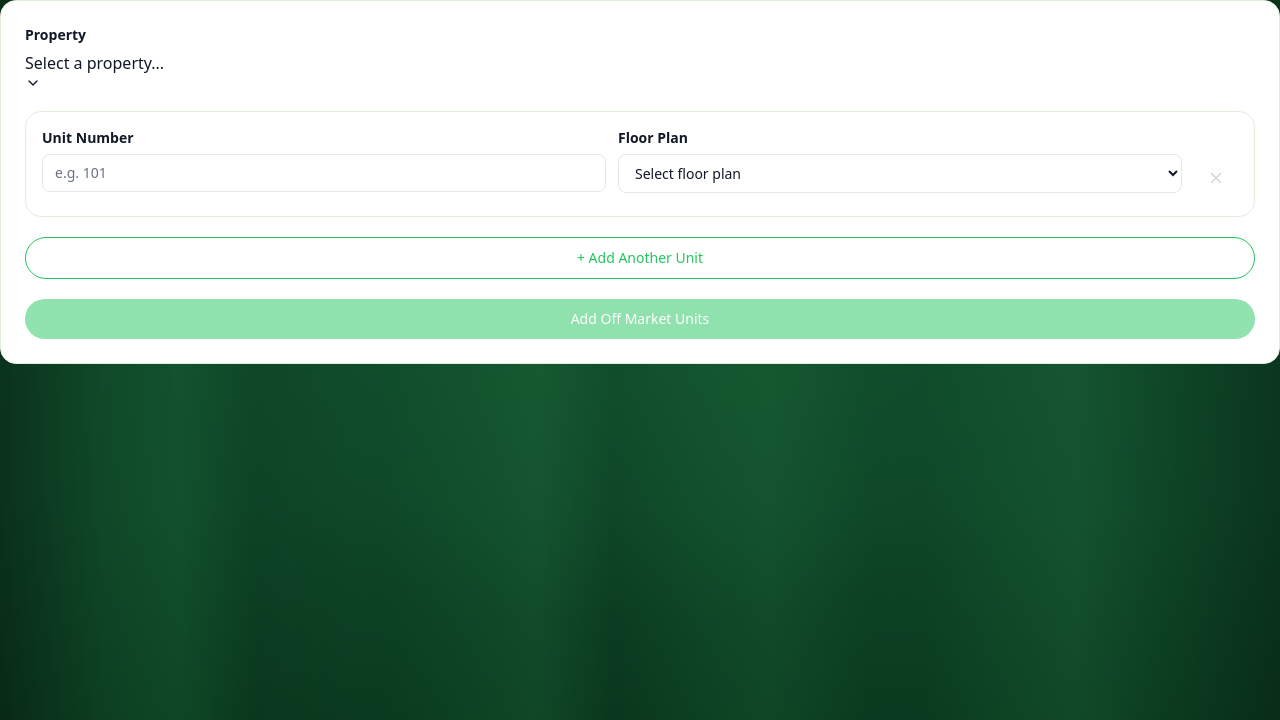
Scenario: AddVacantForm › shows validation errors on submit when unit number is empty
Note: Select a property by clicking the trigger and checking a property
Click the button "Select a property..." at (95, 71), box x1=25 y1=51 x2=164 y2=91
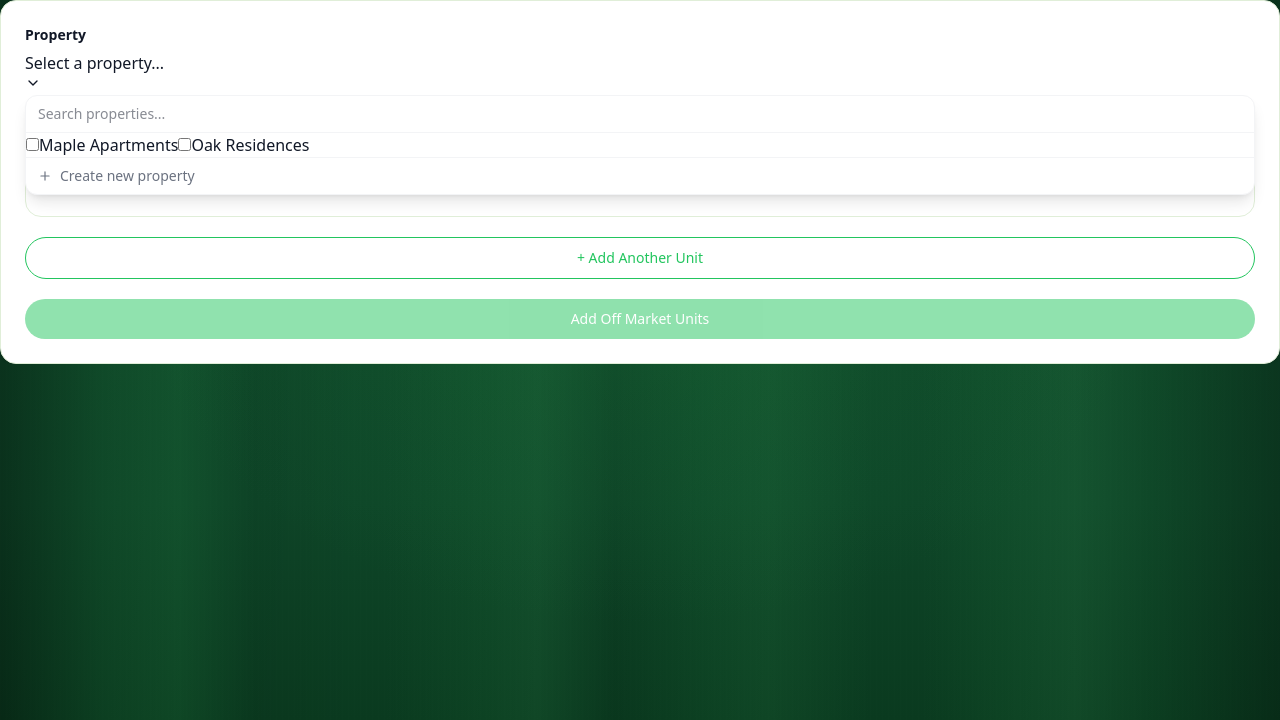
Expected: the checkbox labelled "Maple Apartments" is shown
Click the checkbox labelled "Maple Apartments" at (32, 144), box x1=26 y1=138 x2=39 y2=151
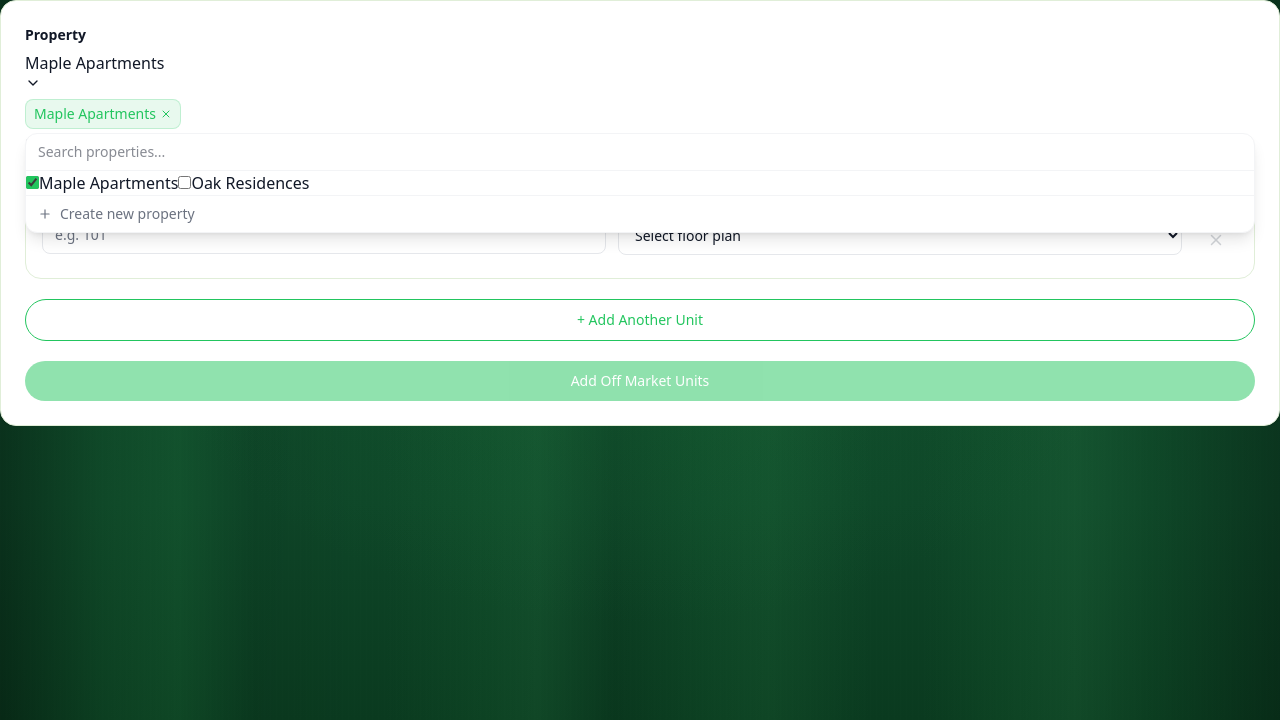
Select "1br 1ba" in the dropdown at (900, 236), box x1=618 y1=216 x2=1182 y2=255
Type "101" into the field with placeholder "e.g. 101" at (324, 235), box x1=42 y1=216 x2=606 y2=254
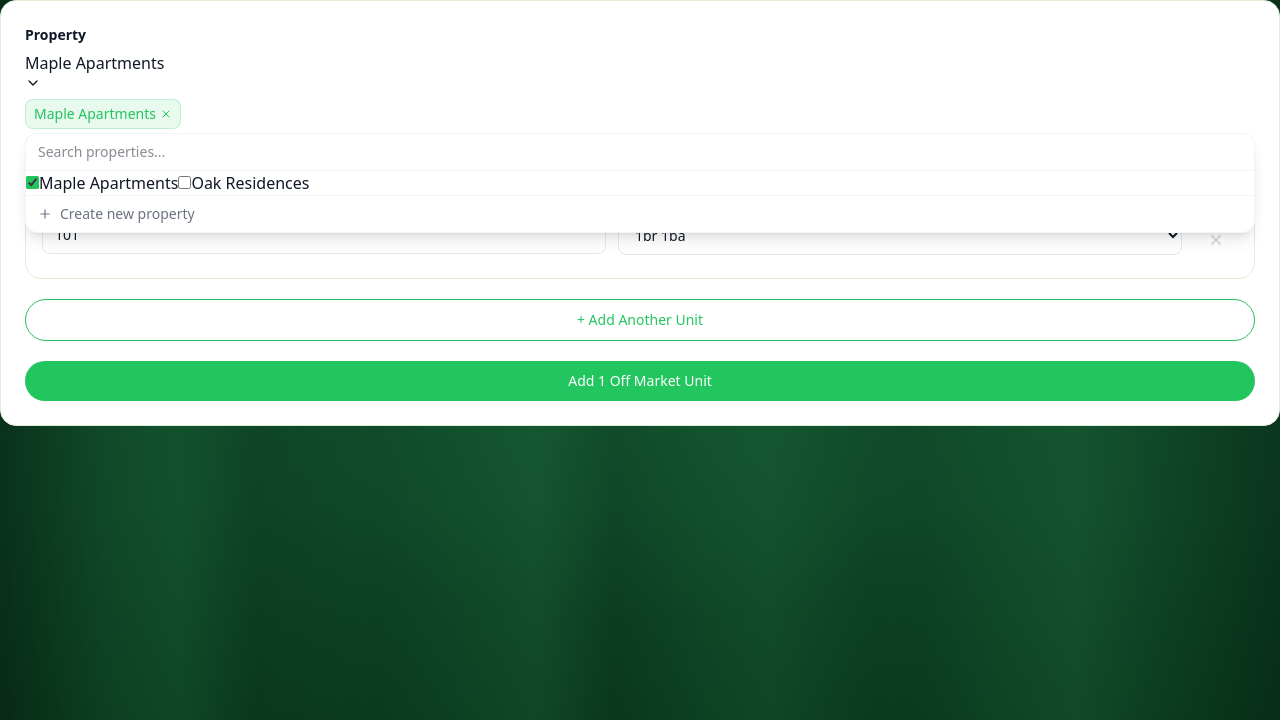
Click the button "+ Add Another Unit" at (640, 320), box x1=25 y1=299 x2=1255 y2=341
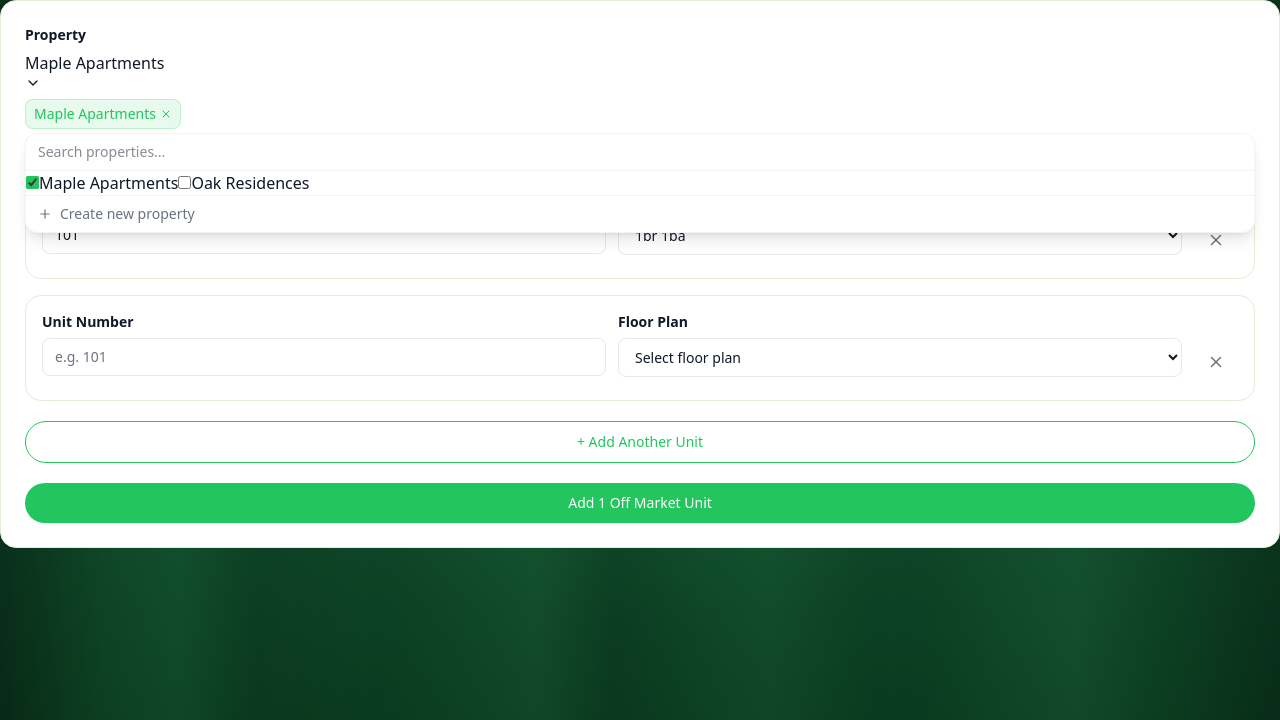
Note: Second row: fill floor plan but not unit number
Select "2br 1ba" in the 2nd dropdown labelled "Floor Plan" at (900, 358), box x1=618 y1=338 x2=1182 y2=377
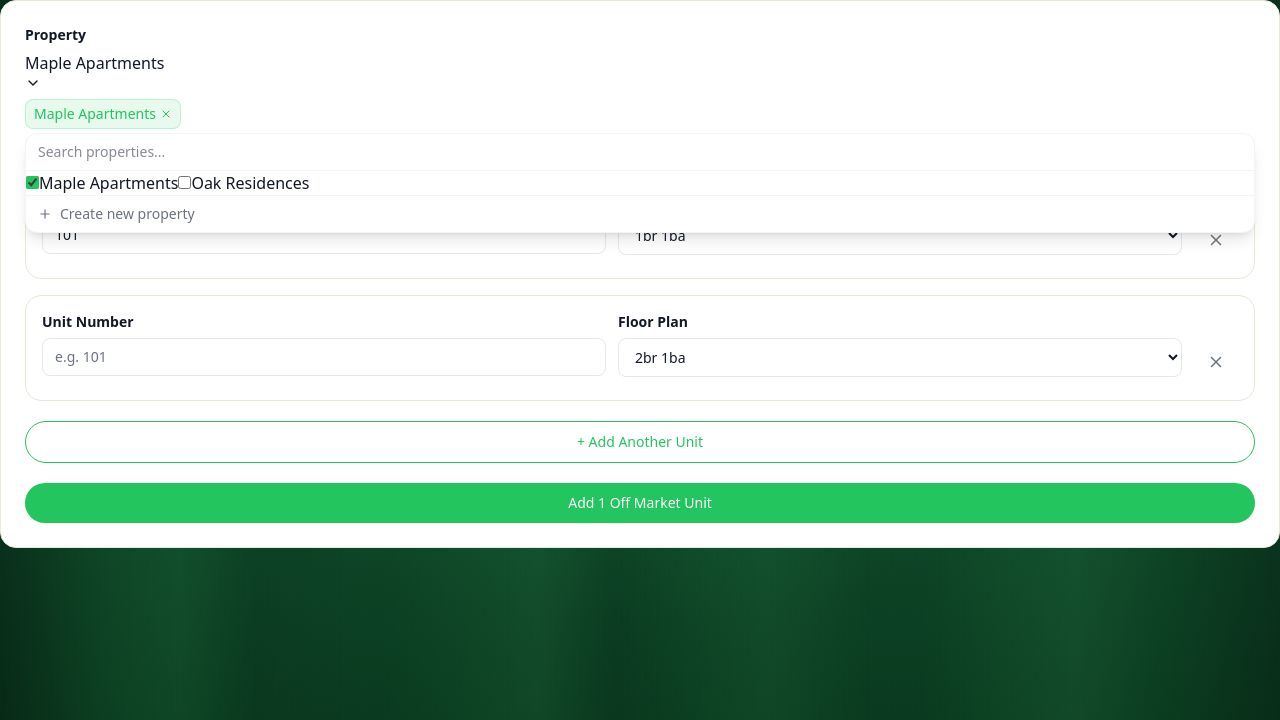
Click the button "Add 1 Off Market Unit" at (640, 503), box x1=25 y1=483 x2=1255 y2=523
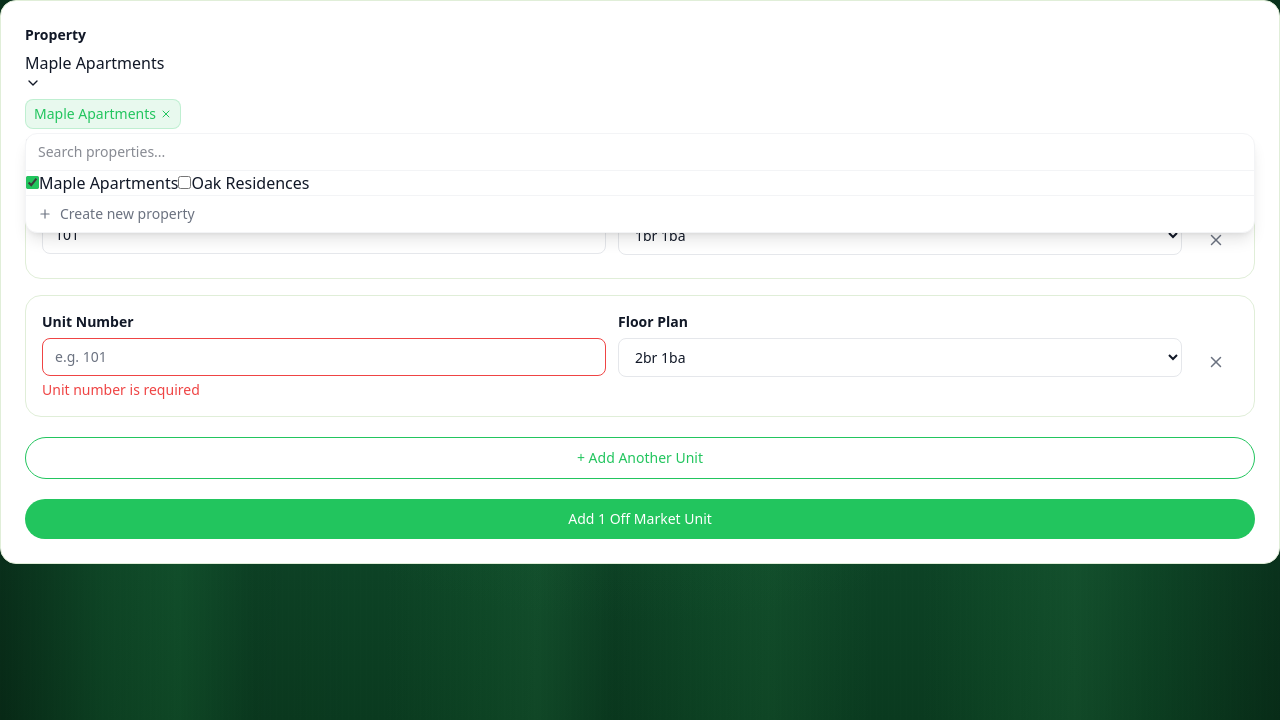
Expected: the text "Unit number is required" is shown, x1=42 y1=380 x2=200 y2=399
